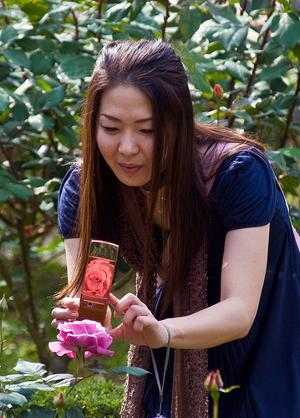person: (50, 38, 300, 415)
